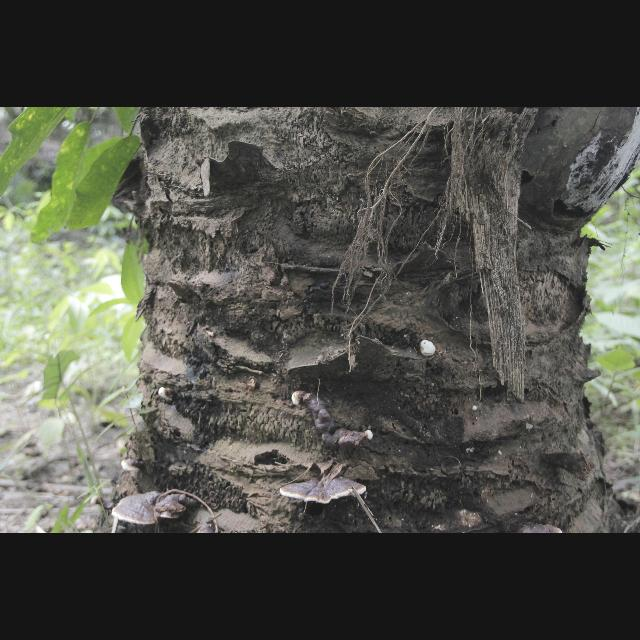ganoderma: (307, 393, 366, 451), (280, 474, 368, 506), (113, 492, 166, 527), (157, 494, 197, 520), (122, 461, 146, 474)
primordium: (421, 341, 438, 358), (292, 392, 306, 410), (159, 388, 176, 402), (91, 497, 106, 510), (365, 431, 374, 442), (473, 406, 479, 412)
